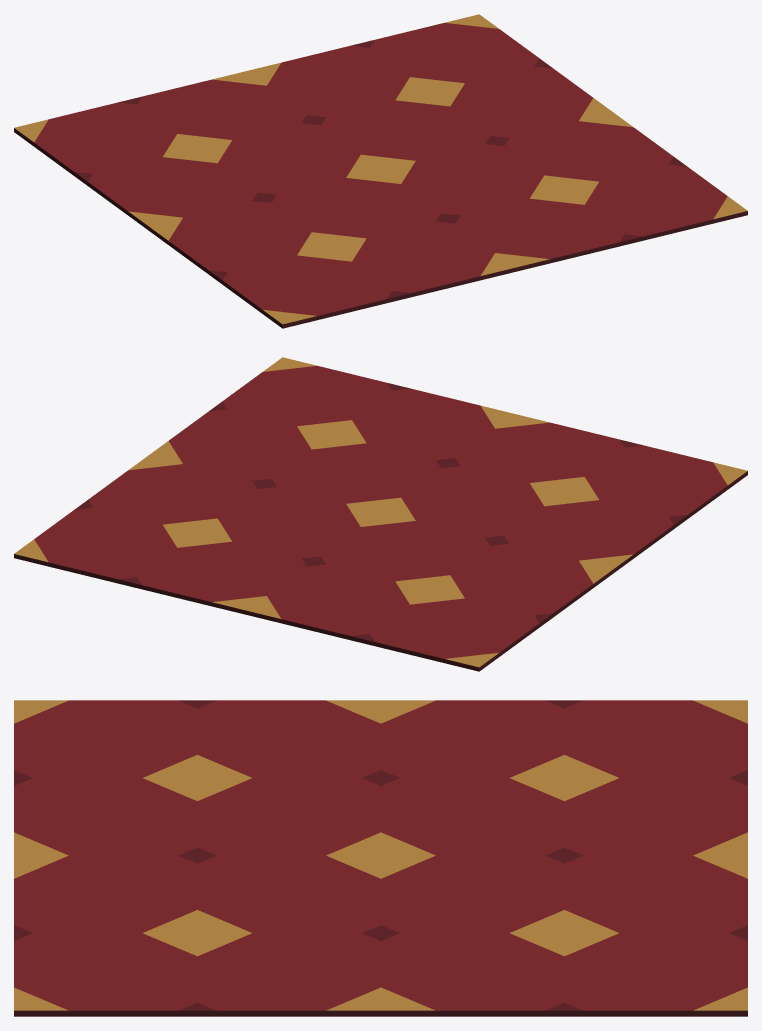
The model's file is carpet_red_center_A.glb.
3 views of the same model, one above another, from view 1: azimuth 30°, elevation 25°; view 2: azimuth 150°, elevation 25°; view 3: azimuth 270°, elevation 25° (orthographic). The views are drawn at different scales.
Visible parts, largest first — view 1: Item; view 2: Item; view 3: Item.
Part boxes in pixels (x1=…): Item: x1=14, y1=14, x2=747, y2=328; Item: x1=14, y1=357, x2=747, y2=671; Item: x1=14, y1=700, x2=747, y2=1016.
Bounding box in the file's own units: 4 × 0.035 × 4.
Materials: 1 (1 with a texture image).
